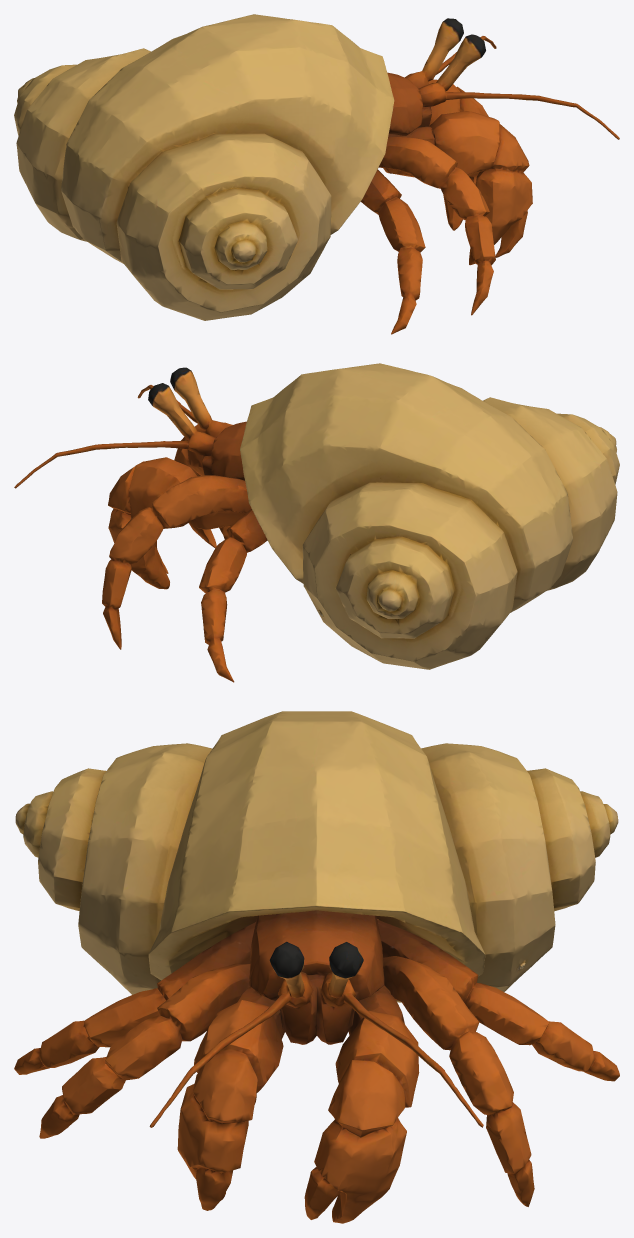
Rendered from hermit crab.glb.
3 renders of one model, top to bottom at view 1: azimuth 30°, elevation 25°; view 2: azimuth 150°, elevation 25°; view 3: azimuth 270°, elevation 25°, orthographic. The views are drawn at different scales.
Parts seen in each view (by area): view 1: tripo_node_929d1480-d80f-4880-88d0-59d3143fa841; view 2: tripo_node_929d1480-d80f-4880-88d0-59d3143fa841; view 3: tripo_node_929d1480-d80f-4880-88d0-59d3143fa841.
Boxes of the visible parts, bbox=[...] form: tripo_node_929d1480-d80f-4880-88d0-59d3143fa841: bbox=[14, 14, 619, 334]; tripo_node_929d1480-d80f-4880-88d0-59d3143fa841: bbox=[14, 363, 619, 682]; tripo_node_929d1480-d80f-4880-88d0-59d3143fa841: bbox=[14, 711, 619, 1223].
Size of the model in its own units: 1 by 0.5067 by 0.8065.
1 material, 1 textured.
